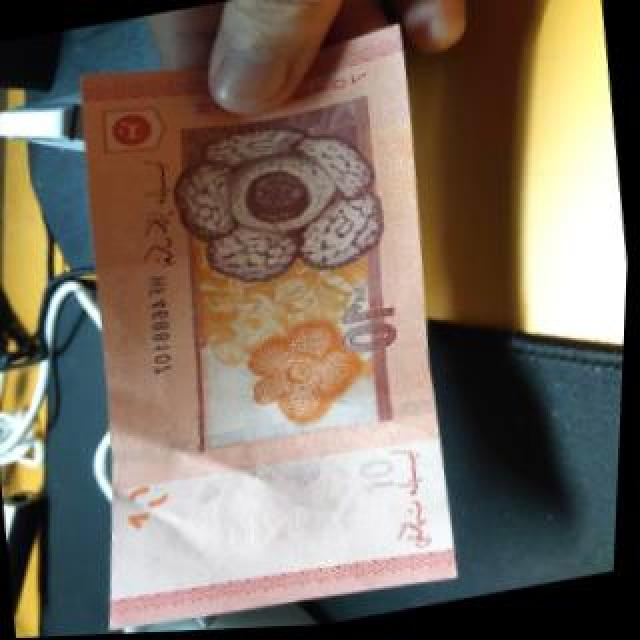10 Ringgit: (28, 10, 494, 638)
